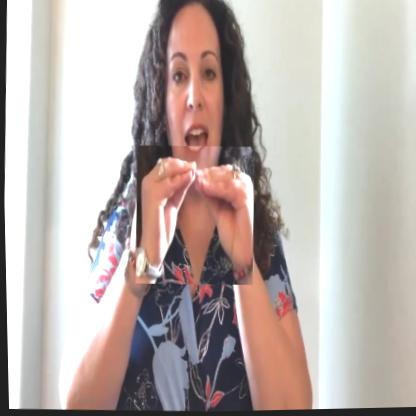Fix: (132, 145, 256, 289)
